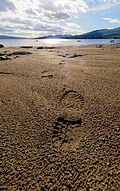human_footprint: (52, 90, 83, 148)
